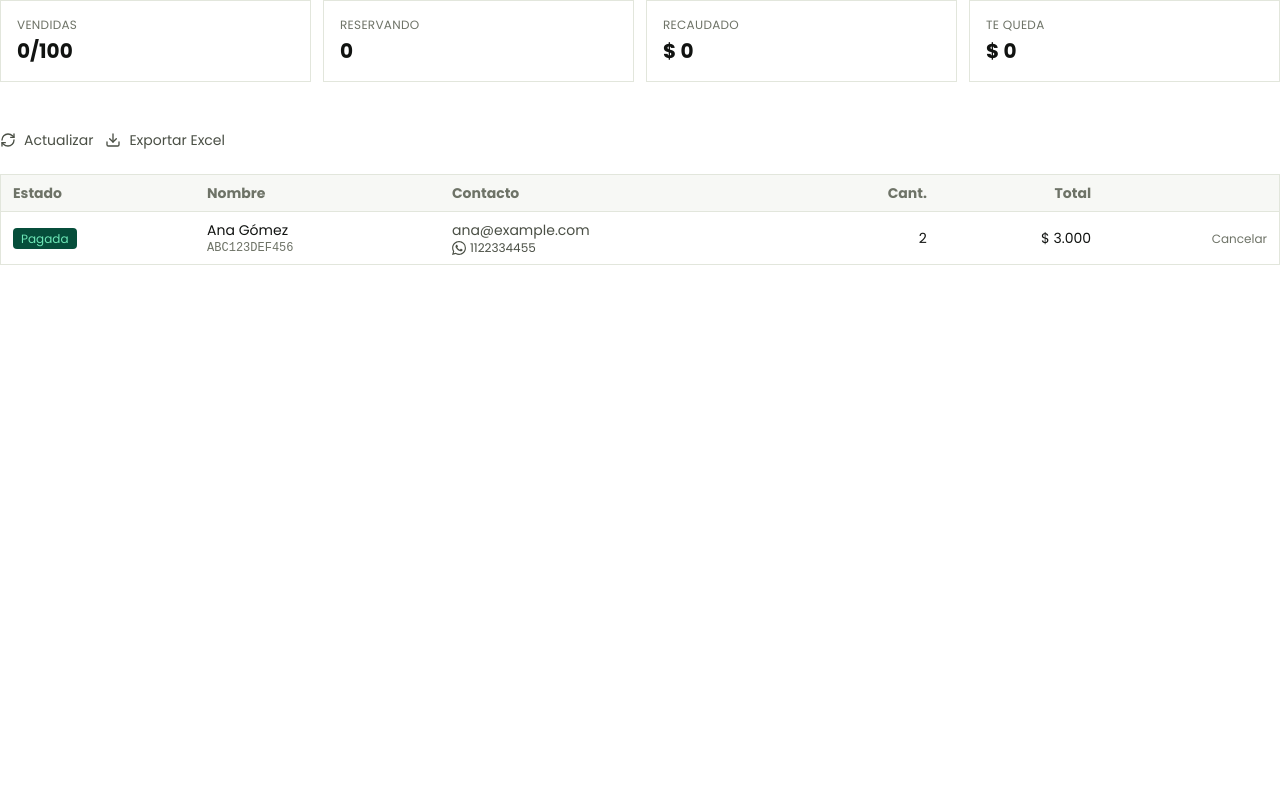
PanelVentas › cancelar una compra › volver atrás no cancela nada
Click the button "Cancelar" at (1239,239), box [1212,231,1267,247]
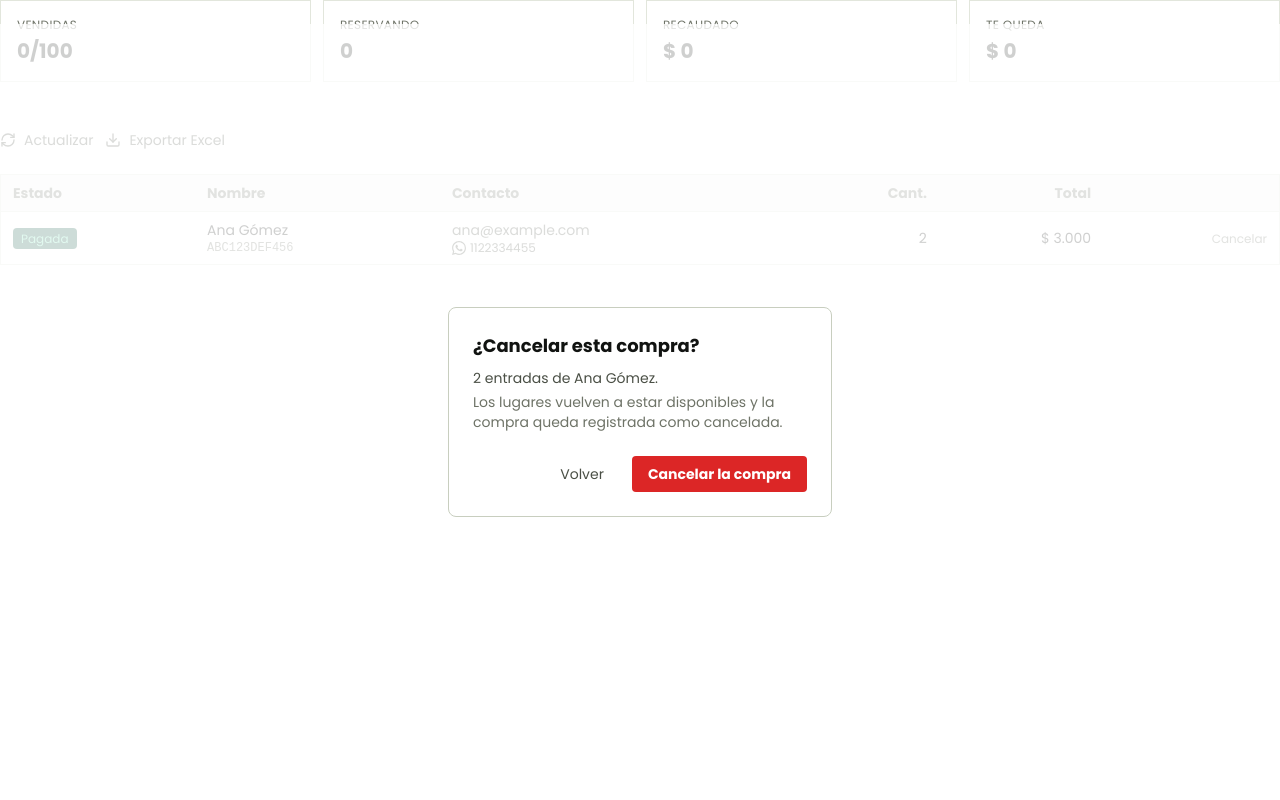
Check: the heading "¿Cancelar esta compra?" is shown, box [473,333,700,358]
Click the button "Volver" at (582,474), box [544,456,620,492]
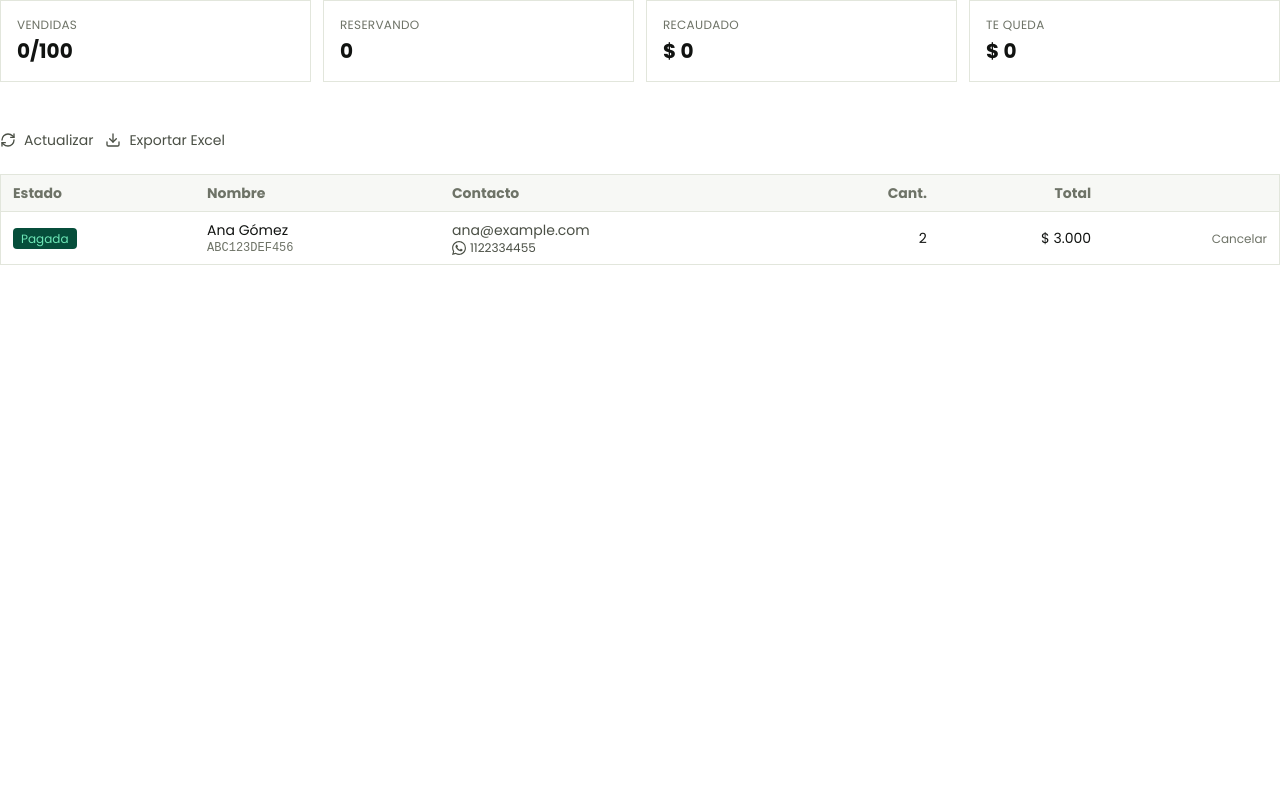
Check: the heading "¿Cancelar esta compra?" is gone
